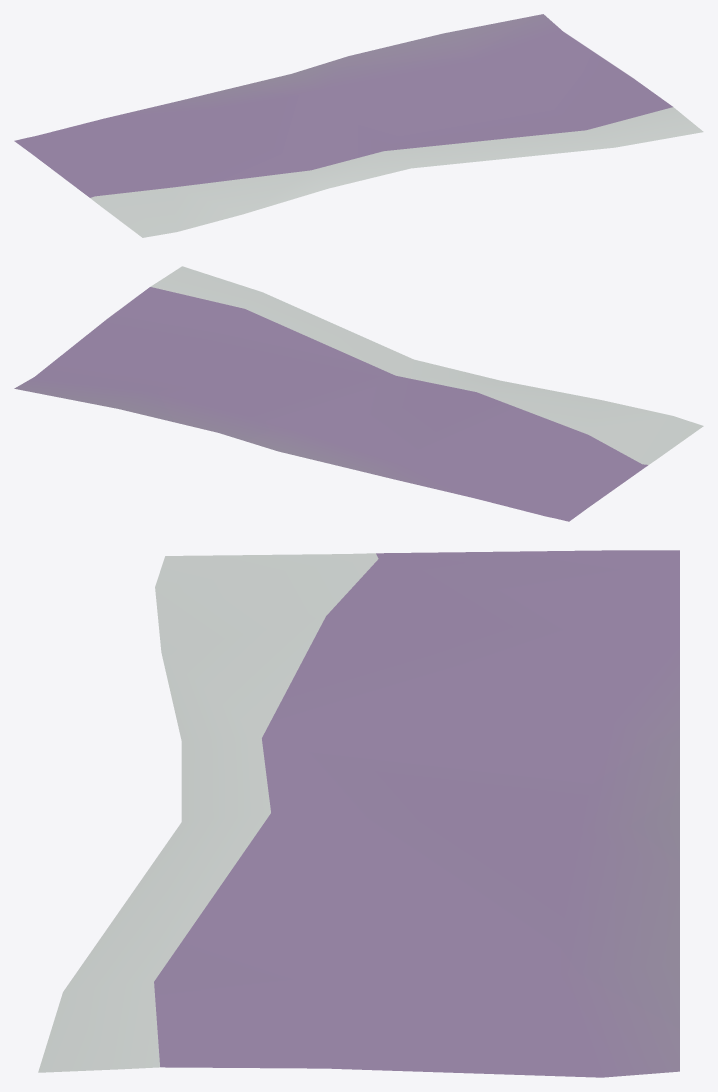
The picture shows the model from 3 angles, top to bottom: view 1: azimuth 30°, elevation 25°; view 2: azimuth 150°, elevation 25°; view 3: azimuth 270°, elevation 25°; orthographic projection. The views are drawn at different scales.
Visible parts, largest first — view 1: G:\FFXIV-MapTools\exports\m5f1\bg\ex4\02_mid_m5\fld\m5f1\bgp (×2); view 2: G:\FFXIV-MapTools\exports\m5f1\bg\ex4\02_mid_m5\fld\m5f1\bgp (×2); view 3: G:\FFXIV-MapTools\exports\m5f1\bg\ex4\02_mid_m5\fld\m5f1\bgp (×2).
Boxes of the visible parts, x1,y1,x2,y2 form: G:\FFXIV-MapTools\exports\m5f1\bg\ex4\02_mid_m5\fld\m5f1\bgp (×2): (14, 14, 703, 237); G:\FFXIV-MapTools\exports\m5f1\bg\ex4\02_mid_m5\fld\m5f1\bgp (×2): (14, 266, 703, 521); G:\FFXIV-MapTools\exports\m5f1\bg\ex4\02_mid_m5\fld\m5f1\bgp (×2): (38, 550, 679, 1077).
Bounding box in the file's own units: 128 × 1.96 × 67.2.
